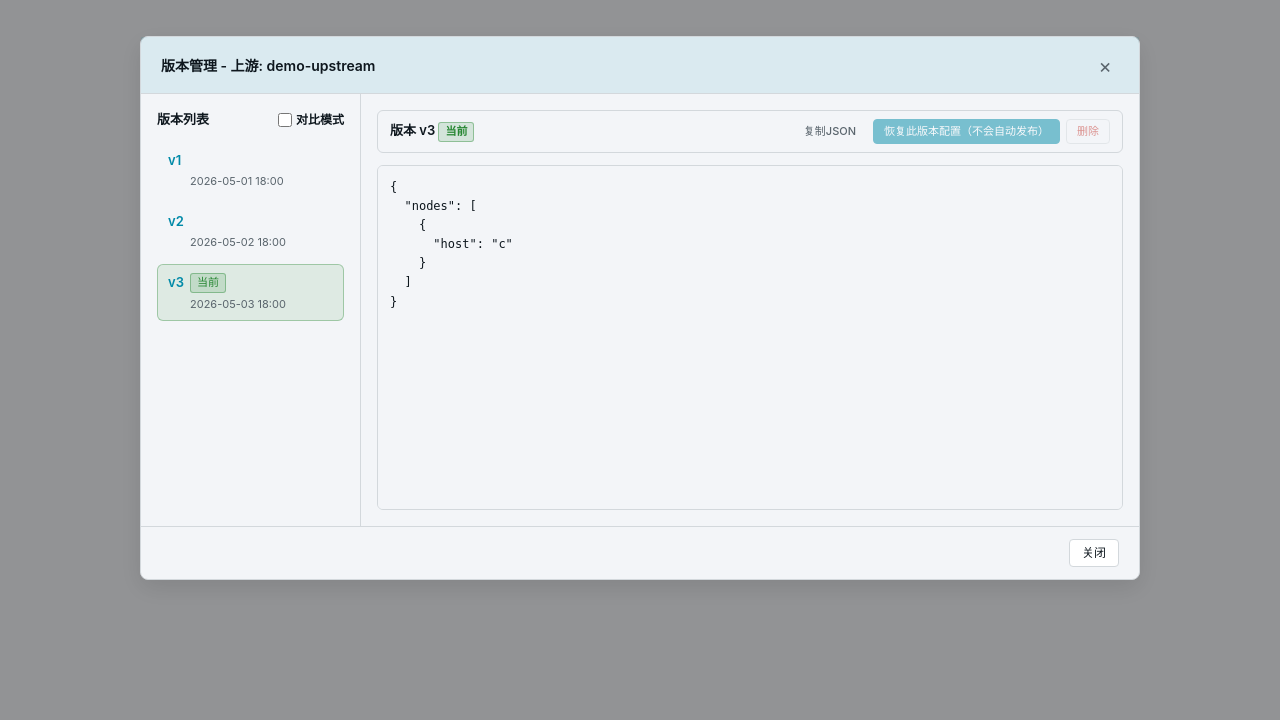
Test: VersionManagementModal.vue - 删除版本记录确认（task 1.5） › 1.5 非当前版本删除按钮文案为「删除此版本记录」
Click the text "v2" at x=176, y=221, box [168, 212, 184, 231]
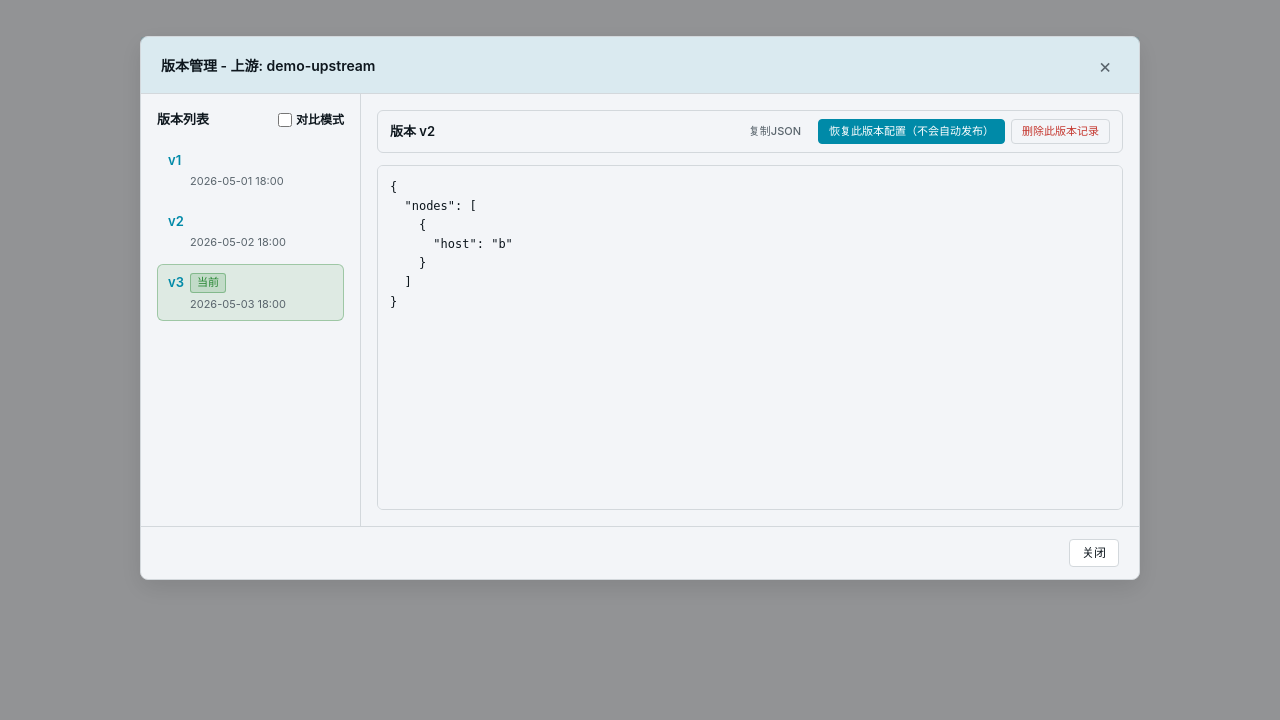
Now the button with class "btn-danger" reads "删除此版本记录", box [1011, 119, 1110, 144]
